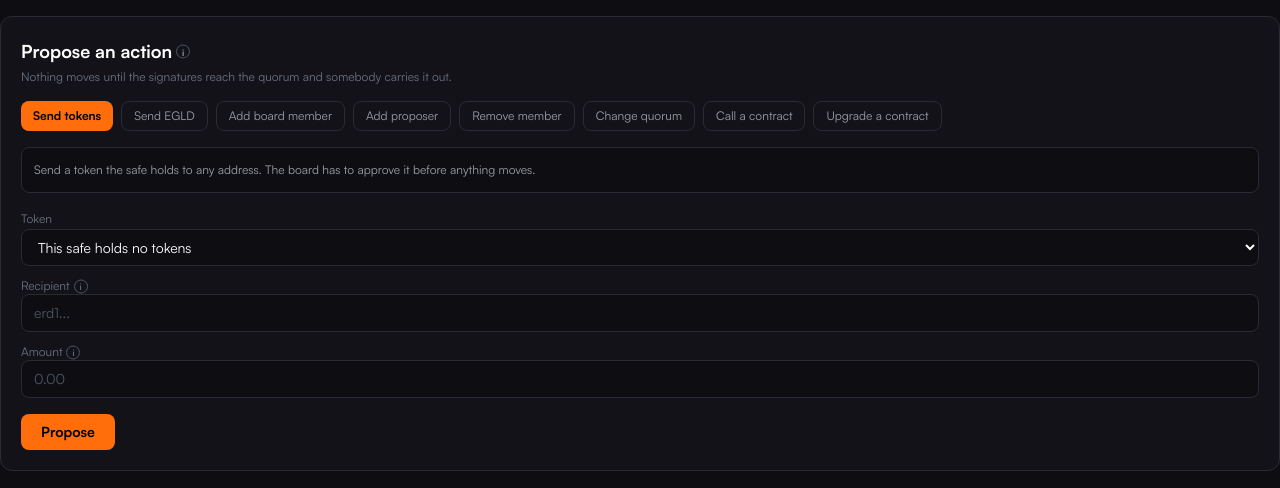
Test: making a board member a proposer says, before proposing, that it takes them off the board
The image size is (1280, 488).
Click the button "Add proposer" at (402, 116), box [353,101,451,131]
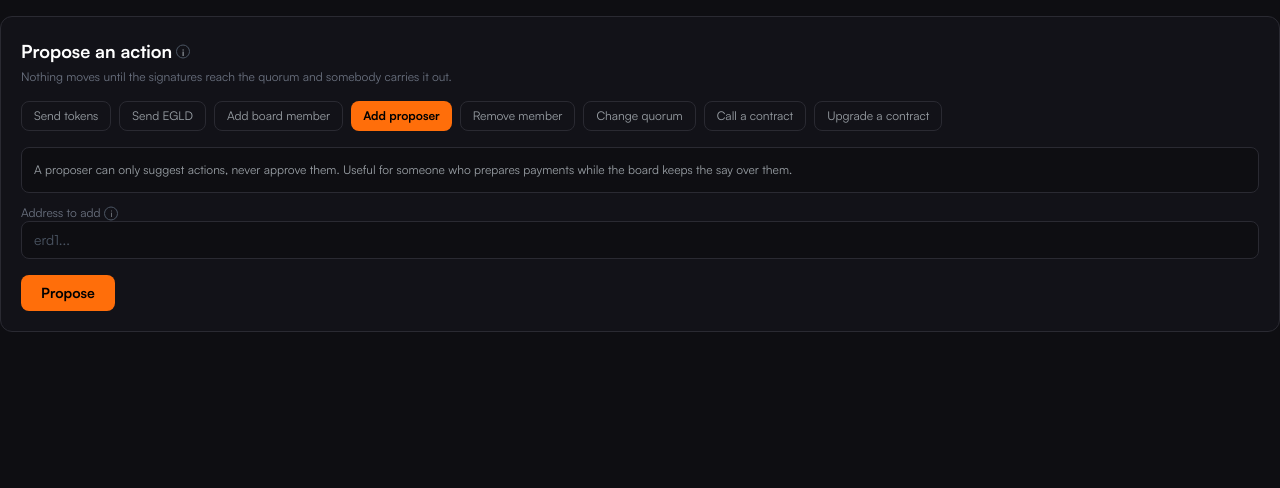
Type "erd16pe79ay2m6g7ap9vpshvvqaqc3ayplwuqw0rkwj2gqvv0egn0wjsyzvjwd" into the field with placeholder "erd1..." at (640, 240), box [21,220,1259,258]
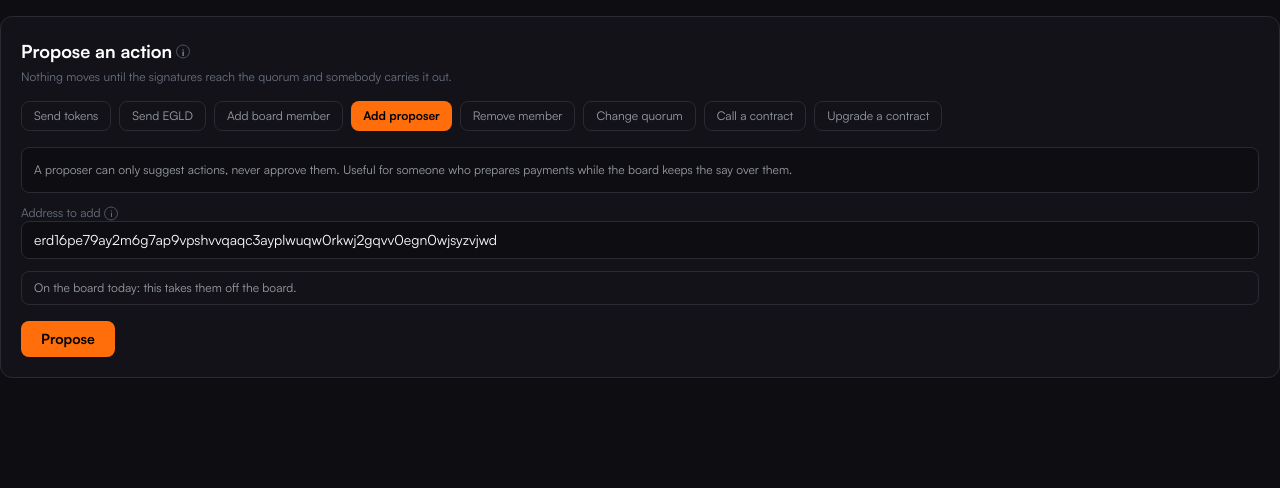
expect the text "On the board today: this takes them off the board." is shown: met, box [21,270,1259,304]
